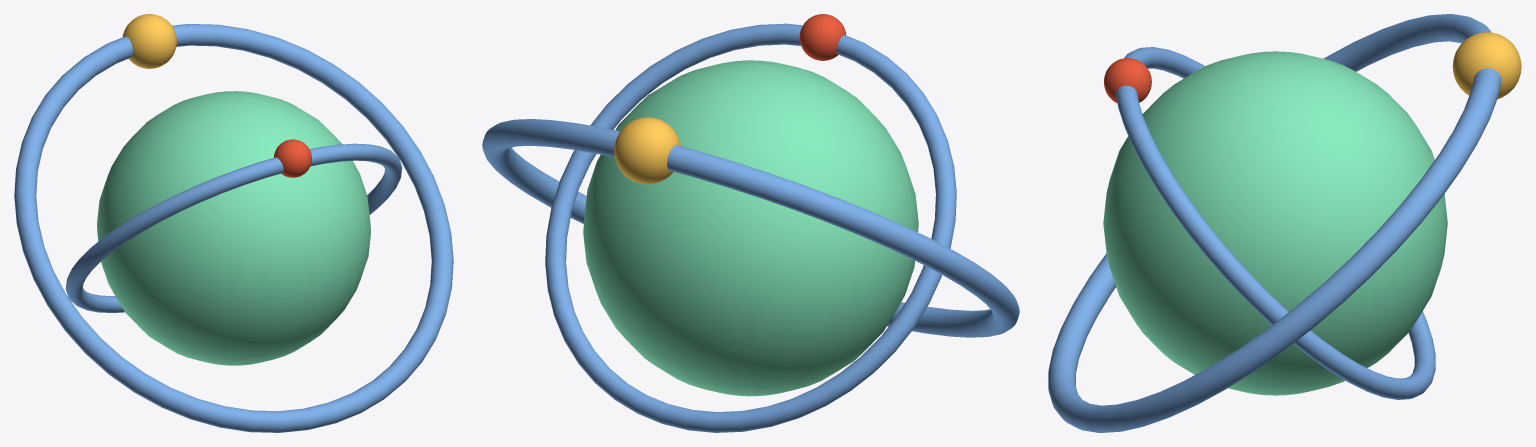
File: rotation orb.fbx
3 renders of one model, left to right at view 1: azimuth 30°, elevation 25°; view 2: azimuth 150°, elevation 25°; view 3: azimuth 270°, elevation 25°, orthographic. The views are drawn at different scales.
Visible parts, largest first — view 1: Sphere, Torus, Torus.001, Sphere.001, Sphere.002; view 2: Sphere, Torus.001, Torus, Sphere.001, Sphere.002; view 3: Sphere, Torus, Torus.001, Sphere.001, Sphere.002.
Part boxes in pixels (x1,y1,x2,y2): Sphere: (97,91,370,365); Torus: (14,24,453,432); Torus.001: (65,143,402,312); Sphere.001: (122,14,176,68); Sphere.002: (273,139,311,177); Sphere: (583,60,918,396); Torus.001: (545,23,956,432); Torus: (482,119,1019,337); Sphere.001: (614,117,680,184); Sphere.002: (799,14,846,60); Sphere: (1103,51,1447,395); Torus: (1048,14,1501,432); Torus.001: (1116,47,1435,399); Sphere.001: (1452,32,1521,99); Sphere.002: (1104,58,1151,102).
Size of the model in its own units: 824 by 562 by 674.
